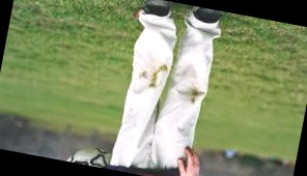earth: (190, 83, 201, 105), (148, 71, 159, 86), (138, 70, 147, 80), (160, 64, 167, 71)
